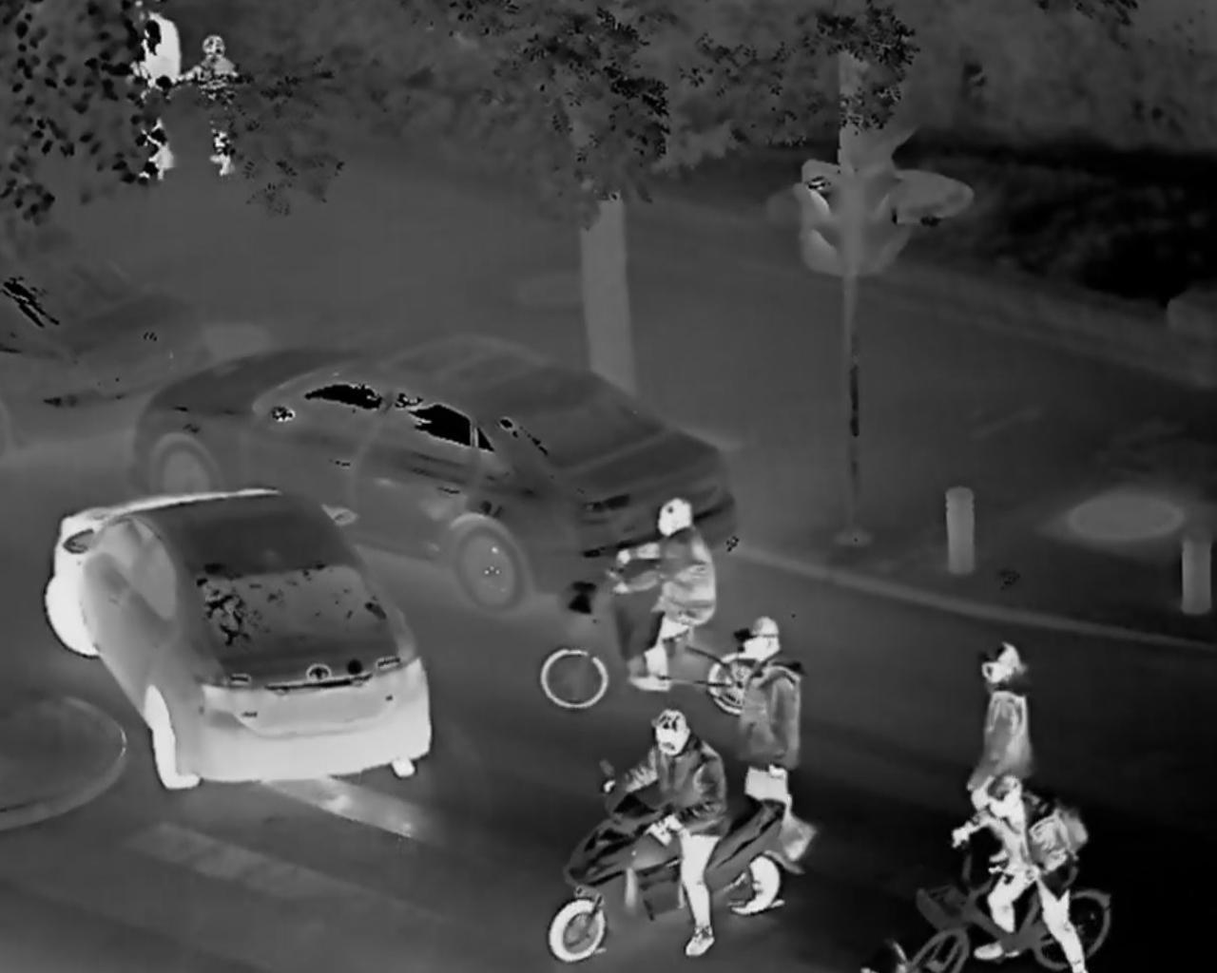person: (605, 702, 732, 949), (958, 775, 1104, 973), (728, 609, 817, 881), (620, 497, 717, 684), (974, 643, 1034, 850), (122, 6, 181, 181), (192, 30, 245, 182)
